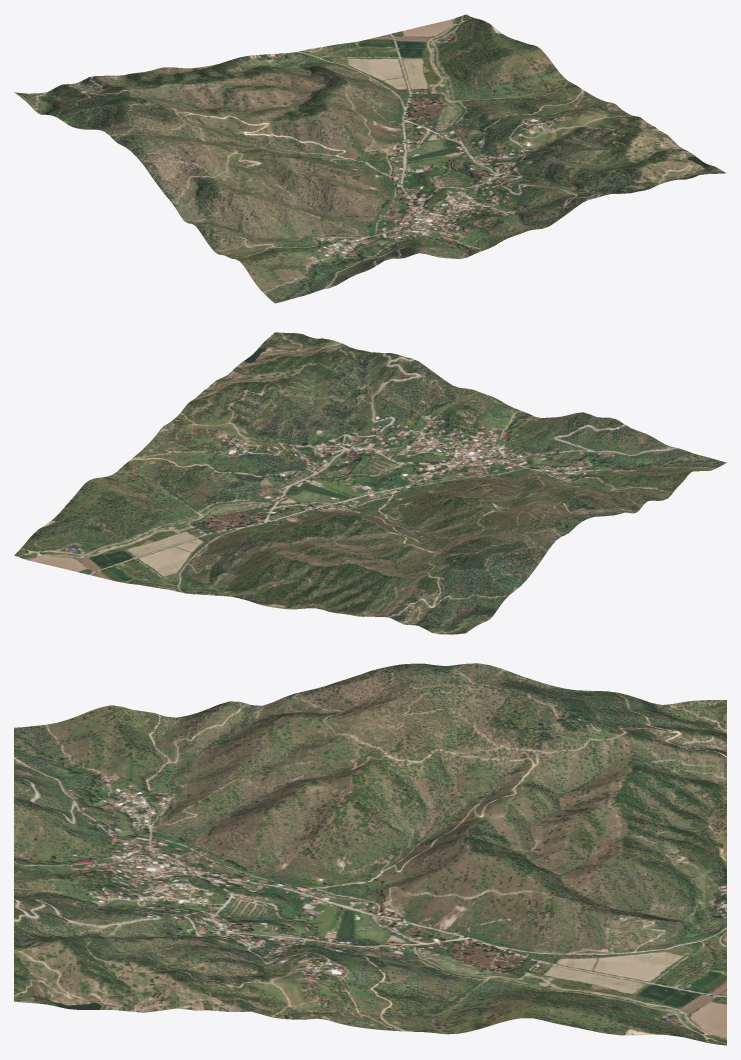
File: CINCIN_topo_TM27_D5.obj
The picture shows the model from 3 angles, top to bottom: view 1: azimuth 30°, elevation 25°; view 2: azimuth 150°, elevation 25°; view 3: azimuth 270°, elevation 25°; orthographic projection. The views are drawn at different scales.
Bounding box in the file's own units: 1980 × 263 × 1980.
Materials: 1 (1 with a texture image).
